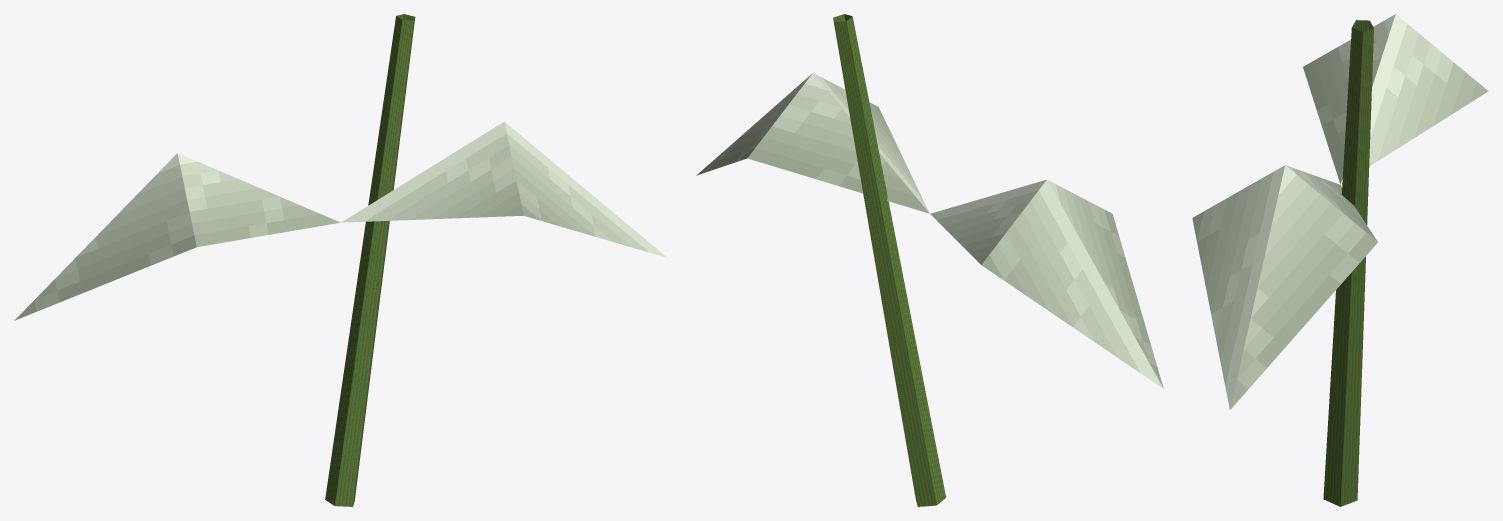
The model's file is tall_0_lod.obj.
3 views of the same model, side by side, from view 1: azimuth 30°, elevation 25°; view 2: azimuth 150°, elevation 25°; view 3: azimuth 270°, elevation 25° (orthographic). The views are drawn at different scales.
Visible parts, largest first — view 1: plant; view 2: plant; view 3: plant.
Boxes of the visible parts, x1,y1,x2,y2 form: plant: (14,14,667,506); plant: (696,14,1163,506); plant: (1192,14,1488,506).
Size of the model in its own units: 0.2985 by 0.2381 by 0.1238.
